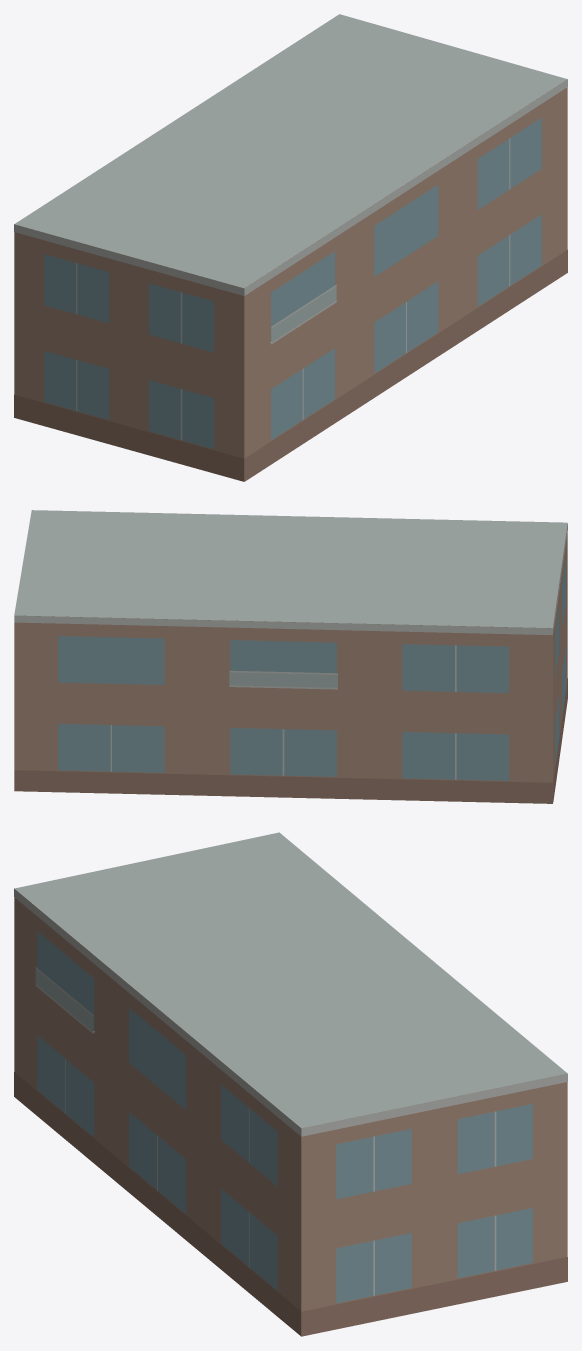
The model's file is survey-upis-32906979.glb.
The picture shows the model from 3 angles, top to bottom: view 1: azimuth 30°, elevation 25°; view 2: azimuth 150°, elevation 25°; view 3: azimuth 270°, elevation 25°; orthographic projection. The views are drawn at different scales.
Visible parts, largest first — view 1: survey-upis-32906979.tmp; view 2: survey-upis-32906979.tmp; view 3: survey-upis-32906979.tmp.
Part boxes in pixels (x1,y1,x2,y2): survey-upis-32906979.tmp: [14, 14, 567, 481]; survey-upis-32906979.tmp: [14, 510, 567, 803]; survey-upis-32906979.tmp: [14, 832, 567, 1336].
Size of the model in its own units: 18.62 by 6.1 by 14.72.
